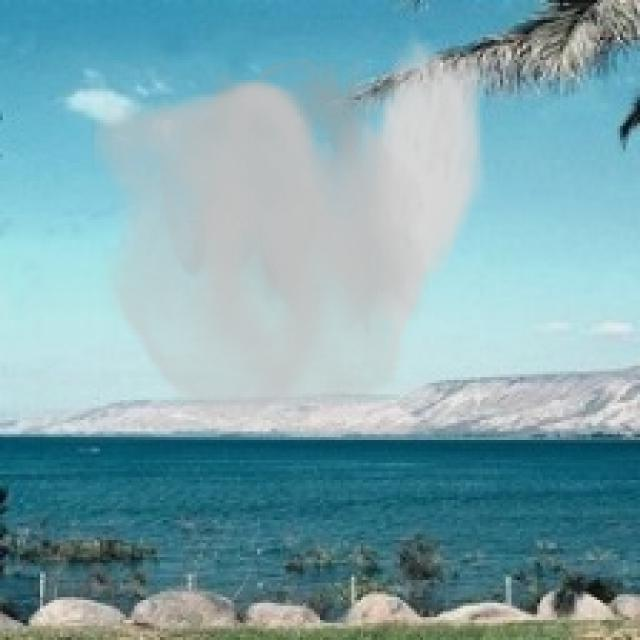smoke: (91, 31, 492, 440)
